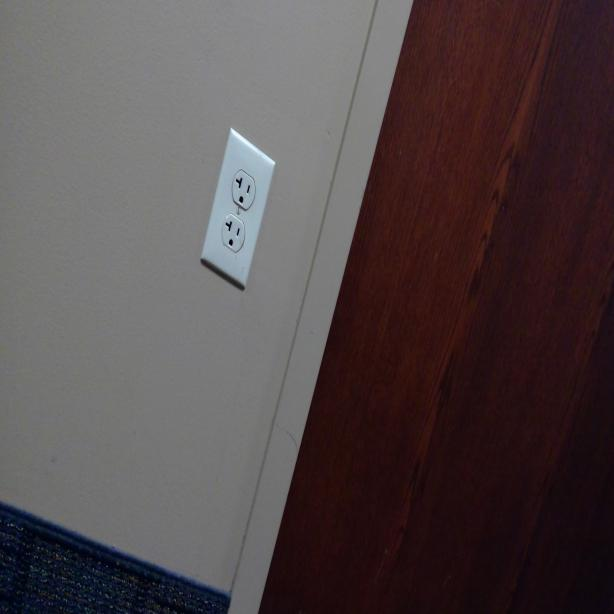typeb: (222, 212, 245, 248), (234, 172, 254, 206)
